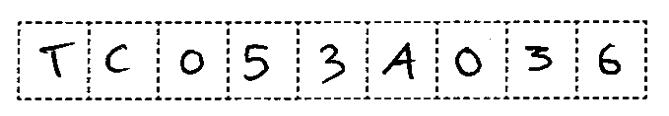0: (449, 43, 489, 80), (176, 45, 206, 82)
3: (312, 40, 350, 88), (515, 40, 557, 78)
5: (239, 39, 273, 86)
6: (592, 41, 626, 78)
A: (377, 36, 424, 84)
C: (99, 39, 133, 78)
T: (34, 36, 77, 82)
